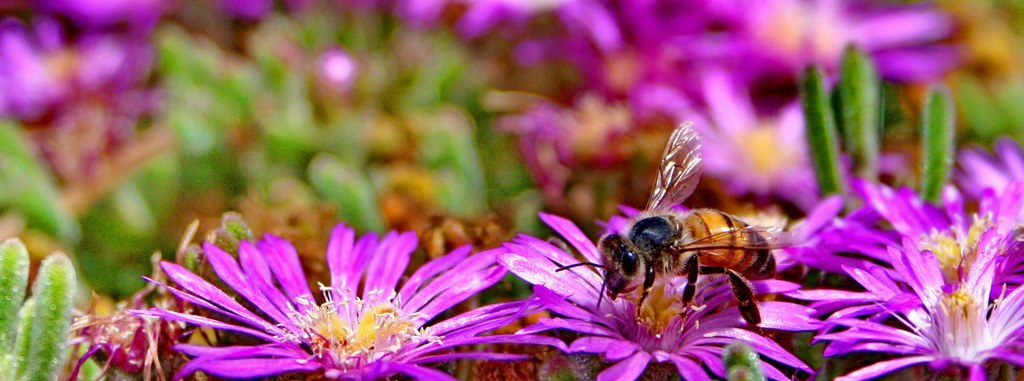bee: (558, 123, 804, 330)
